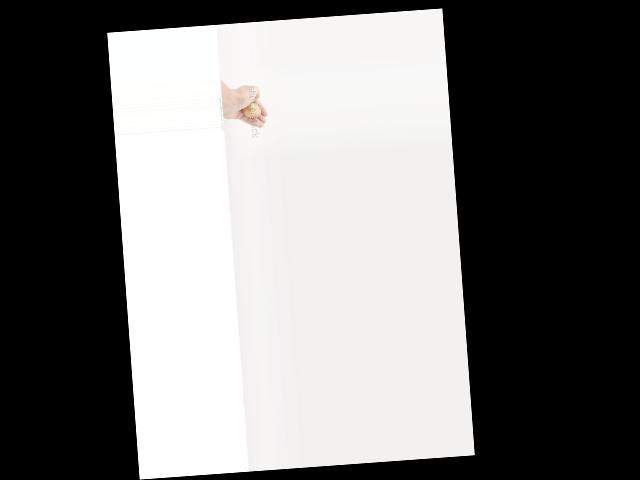egg: (242, 102, 261, 118)
